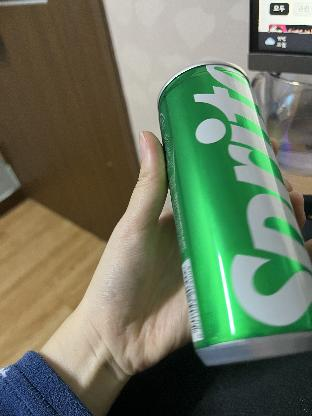Can: (155, 66, 312, 374)
